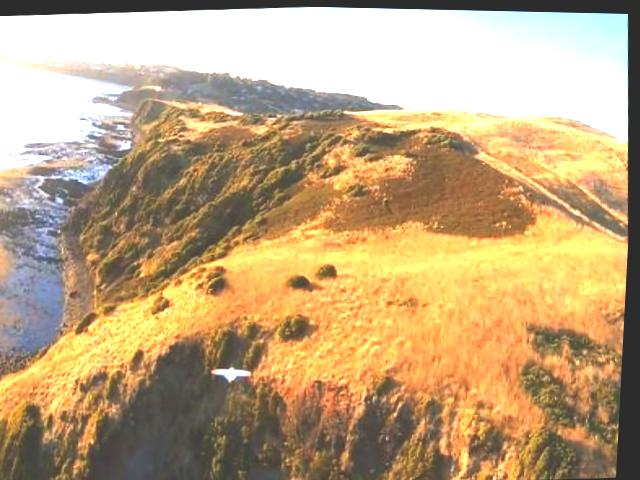uav: (211, 357, 261, 386)
